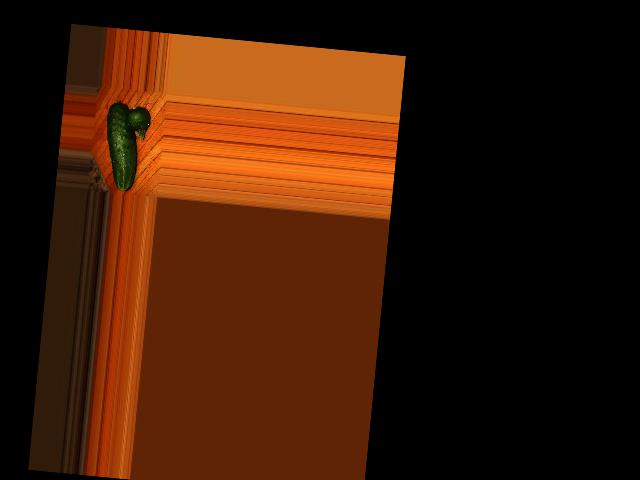cucumber: (100, 101, 142, 192)
